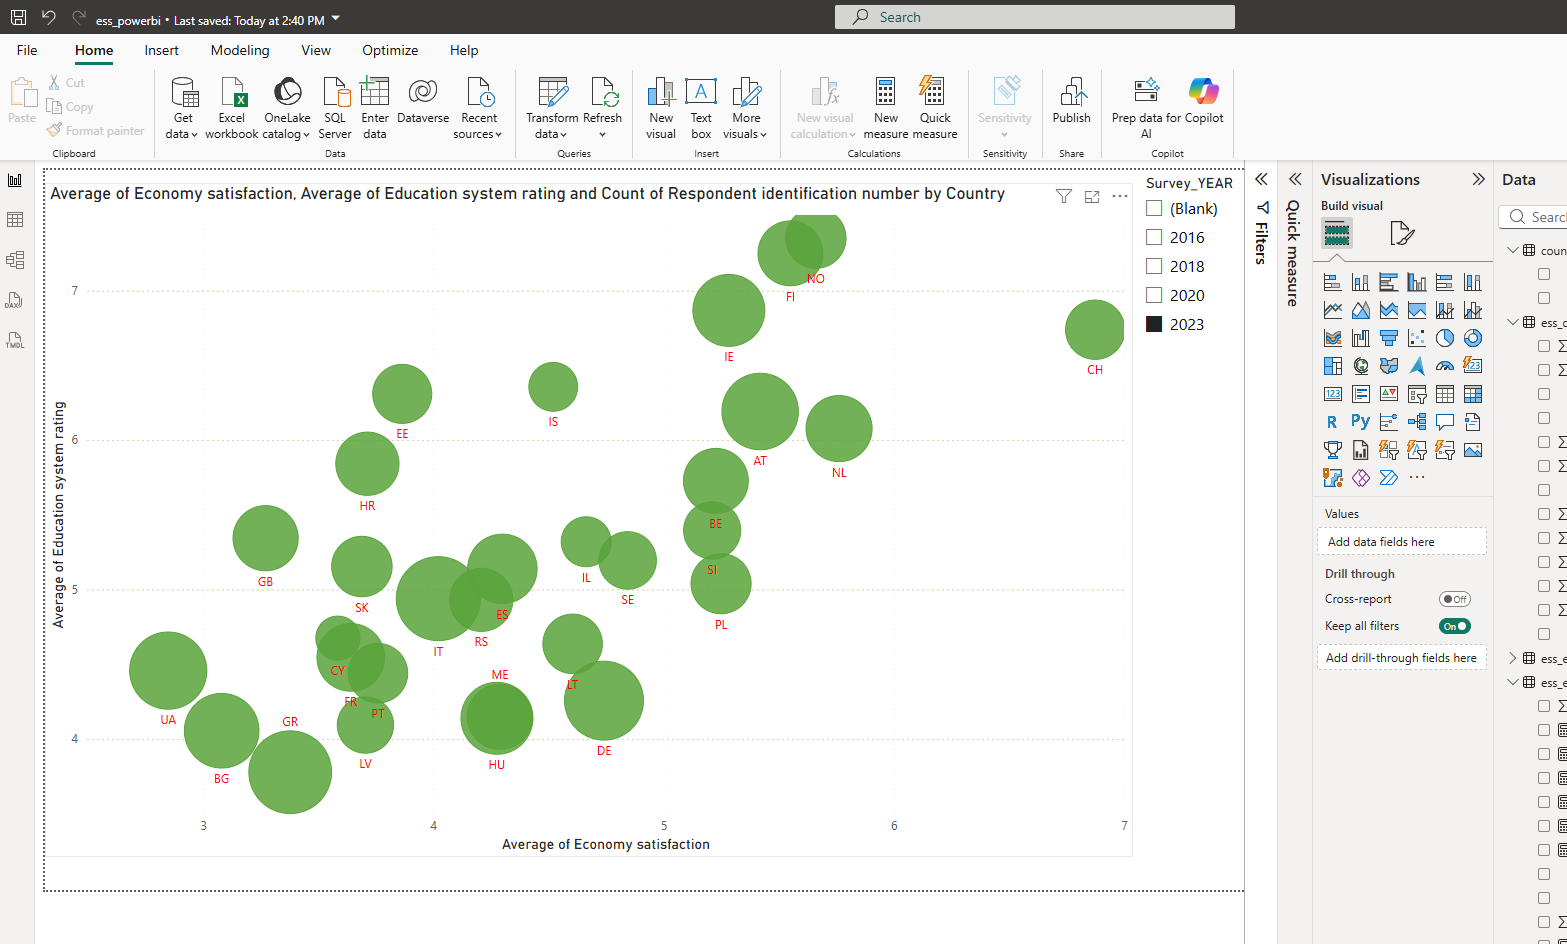

The page's visual inventory and layout, read from the dashboard file:
{"tool":"powerbi","page":{"name":"Economy and Education","canvas":[1280,720],"ordinal":7},"visuals":[{"type":"scatterChart","title":"How do ratings of the economy and education compare across countries?","fields":{"Y":["Avg(ess_pub_as_rec.Education system rating)"],"X":["Avg(ess_pub_as_rec.Economy satisfaction)"],"Size":["CountNonNull(ess_pub_as_rec.Respondent identification number)"],"Category":["countries.Country"]},"box":[0,13,1088,674],"z":0},{"type":"slicer","fields":{"Values":["ess_round.Survey_YEAR"]},"box":[1088,0,163,677],"z":1000}]}

Visuals, with their boxes on the page's 1280x720 design canvas (x1, y1, x2, y2). These are canvas units, not pixel positions in the 1567x944 screenshot, which may show the page scaled, cropped or inside an application window:
"How do ratings of the economy and education compare across countries?" scatterChart: [0,13,1088,687]
slicer - ess_round.Survey_YEAR: [1088,0,1251,677]
